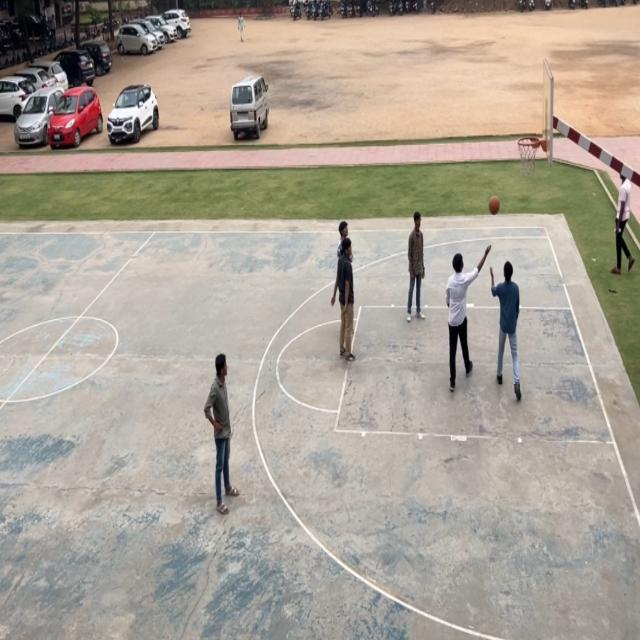basketball: (488, 191, 502, 217)
hoop: (516, 134, 540, 178)
